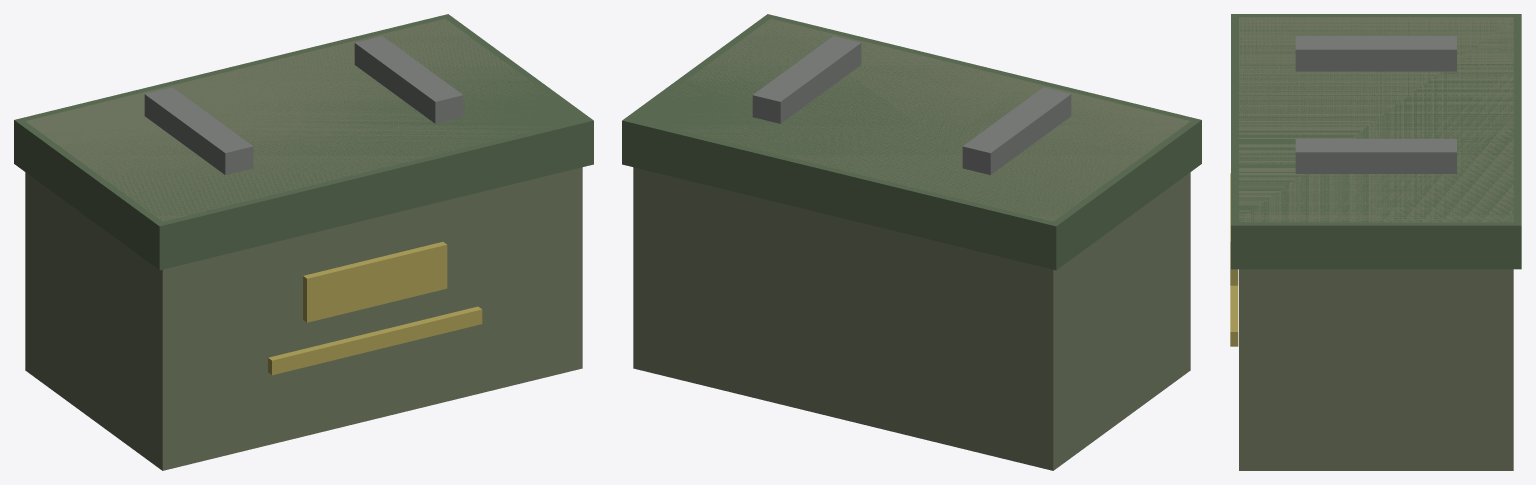
File: g_ammo.glb
3 renders of one model, left to right at view 1: azimuth 30°, elevation 25°; view 2: azimuth 150°, elevation 25°; view 3: azimuth 270°, elevation 25°, orthographic.
Parts seen in each view (by area): view 1: body; view 2: body; view 3: body.
Boxes of the visible parts, left/top/right/bottom form: body: left=14, top=14, right=593, bottom=470; body: left=622, top=14, right=1201, bottom=470; body: left=1230, top=14, right=1521, bottom=470.
Size of the model in its own units: 0.62 by 0.375 by 0.361.
